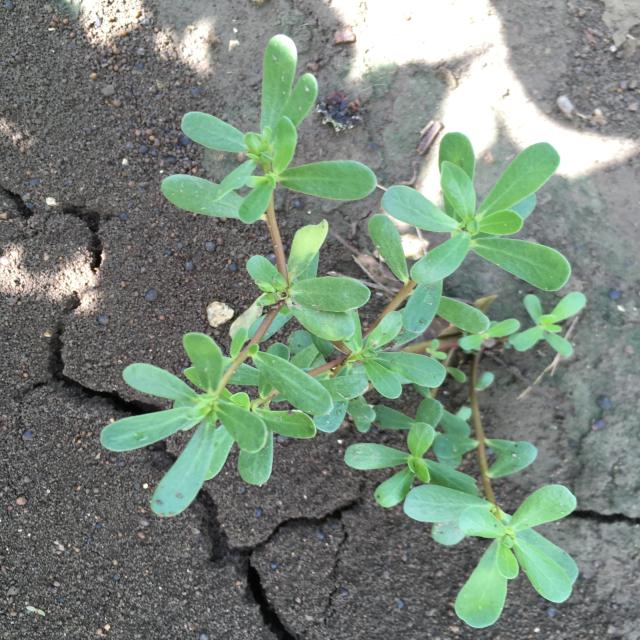Purslane: (99, 34, 586, 628)
